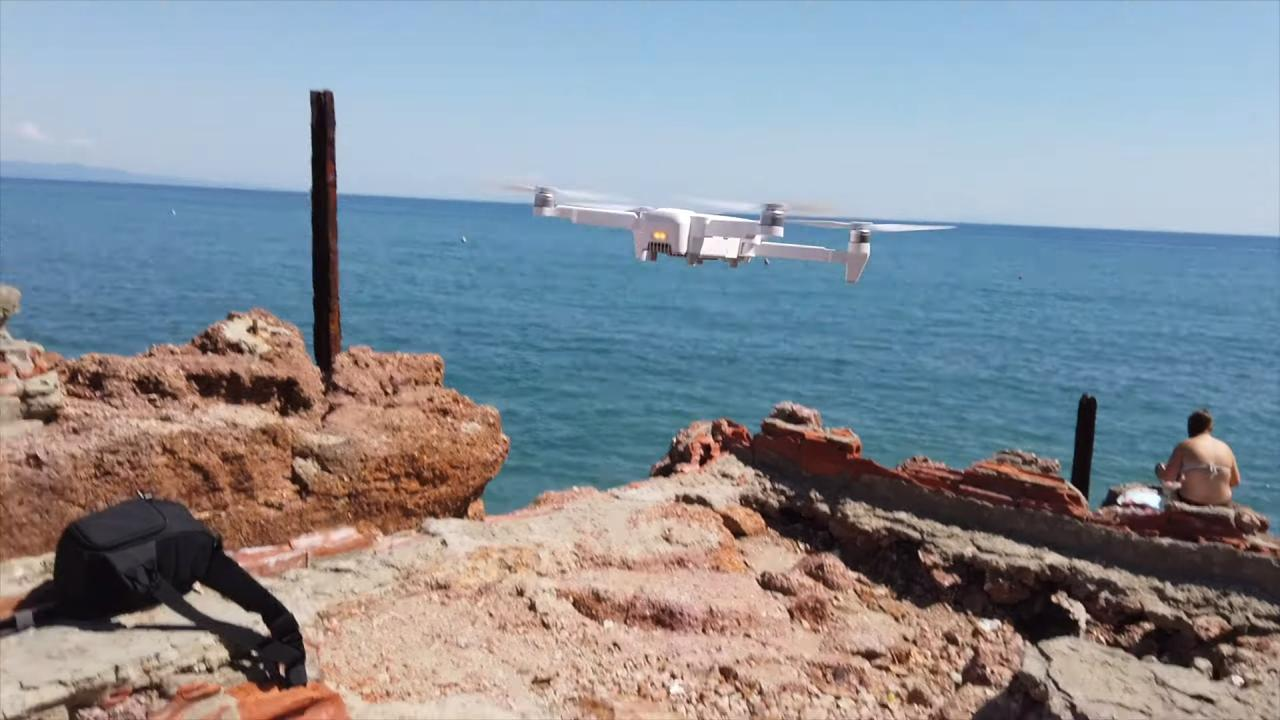Drone: (490, 170, 963, 294)
